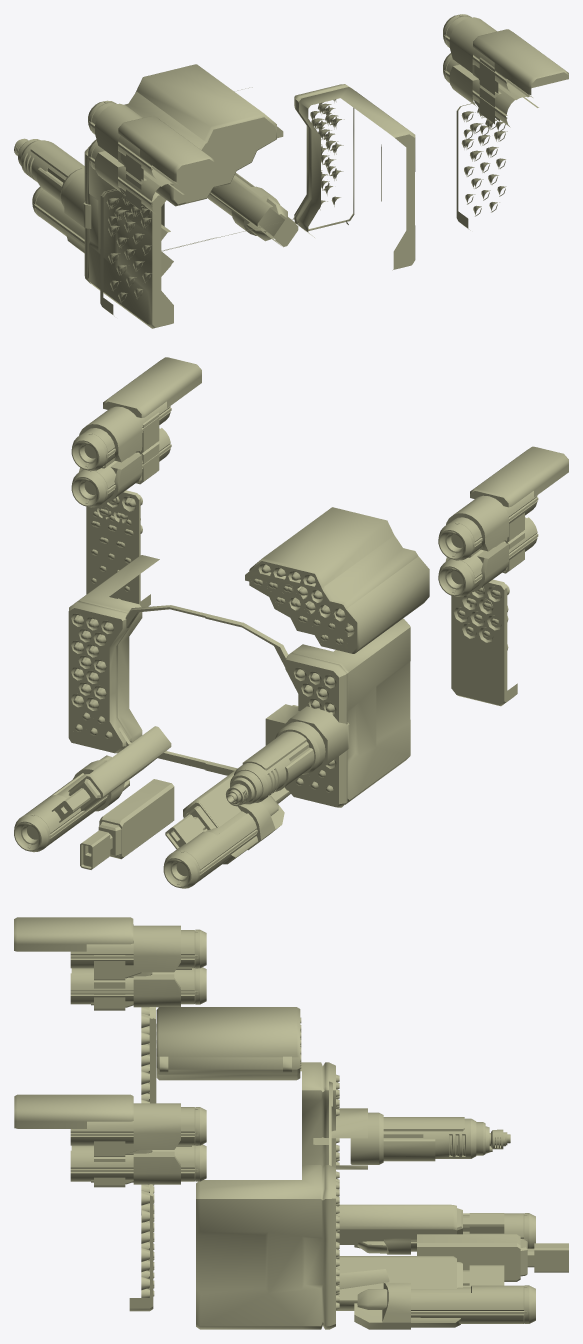
The model's file is StalkerWeapons.glb.
3 views of the same model, one above another, from view 1: azimuth 30°, elevation 25°; view 2: azimuth 150°, elevation 25°; view 3: azimuth 270°, elevation 25° (orthographic). The views are drawn at different scales.
Parts seen in each view (by area): view 1: Torso_Left_MH2_Missile20, Torso_Left_MH1_Missile15, Forearm_Left_EH1_PPC, Forearm_Right_EH1_PPC, Torso_Right_MH1_Missile20, Torso_Right_MH1_Missile15, Torso_Left_BH1_AC20, Forearm_Left_EH2_PPC, Forearm_Right_EH2_PPC, Torso_Left_MH2_Missile10, Torso_Right_EH1_PPC, Torso_Left_EH1_PPC (+13 smaller); view 2: Torso_Left_MH1_Missile15, Torso_Left_MH2_Missile20, Torso_Right_MH1_Missile20, Forearm_Left_EH1_PPC, Forearm_Right_EH1_PPC, Forearm_Left_MH1_Missile10, Torso_Left_MH2_Missile10, Torso_Left_EH1_PPC, Torso_Left_BH1_AC20, Torso_Left_MH1_Missile20, Torso_Center_EH1_Flamer, Torso_Right_EH1_PPC (+16 smaller); view 3: Torso_Right_MH1_Missile15, Forearm_Right_EH1_PPC, Forearm_Left_EH1_PPC, Torso_Right_EH1_PPC, Torso_Left_MH2_Missile20, Torso_Left_BH1_AC20, Torso_Left_EH1_Flamer, Torso_Right_EH1_Flamer, Forearm_Right_EH2_PPC, Forearm_Left_EH2_PPC, Torso_Left_MH1_Missile15, Torso_Center_EH1_Laser (+14 smaller).
Boxes of the visible parts, <box> form: Torso_Left_MH2_Missile20: <box>125,64,283,206</box>; Torso_Left_MH1_Missile15: <box>84,145,217,328</box>; Forearm_Left_EH1_PPC: <box>88,100,214,181</box>; Forearm_Right_EH1_PPC: <box>443,14,568,94</box>; Torso_Right_MH1_Missile20: <box>294,84,414,270</box>; Torso_Right_MH1_Missile15: <box>298,84,415,268</box>; Torso_Left_BH1_AC20: <box>18,139,91,228</box>; Forearm_Left_EH2_PPC: <box>88,139,184,213</box>; Forearm_Right_EH2_PPC: <box>443,53,538,127</box>; Torso_Left_MH2_Missile10: <box>124,91,276,203</box>; Torso_Right_EH1_PPC: <box>207,173,296,241</box>; Torso_Left_EH1_PPC: <box>32,186,173,264</box>; Torso_Left_MH1_Missile15: <box>207,614,410,807</box>; Torso_Left_MH2_Missile20: <box>245,507,429,653</box>; Torso_Right_MH1_Missile20: <box>68,555,159,753</box>; Forearm_Left_EH1_PPC: <box>438,446,568,560</box>; Forearm_Right_EH1_PPC: <box>71,357,201,470</box>; Forearm_Left_MH1_Missile10: <box>451,580,516,706</box>; Torso_Left_MH2_Missile10: <box>245,535,418,647</box>; Torso_Left_EH1_PPC: <box>163,795,284,888</box>; Torso_Left_BH1_AC20: <box>230,718,327,804</box>; Torso_Left_MH1_Missile20: <box>214,618,410,807</box>; Torso_Center_EH1_Flamer: <box>80,787,174,869</box>; Torso_Right_EH1_PPC: <box>14,755,129,852</box>; Torso_Right_MH1_Missile15: <box>196,1165,339,1329</box>; Forearm_Right_EH1_PPC: <box>14,1094,206,1149</box>; Forearm_Left_EH1_PPC: <box>14,917,206,972</box>; Torso_Right_EH1_PPC: <box>337,1269,535,1329</box>; Torso_Left_MH2_Missile20: <box>156,1007,301,1080</box>; Torso_Left_BH1_AC20: <box>351,1112,485,1164</box>; Torso_Left_EH1_Flamer: <box>336,1205,504,1244</box>; Torso_Right_EH1_Flamer: <box>336,1256,504,1310</box>; Forearm_Right_EH2_PPC: <box>70,1144,206,1184</box>; Forearm_Left_EH2_PPC: <box>70,967,206,1007</box>; Torso_Left_MH1_Missile15: <box>300,1062,339,1168</box>; Torso_Center_EH1_Laser: <box>417,1234,520,1281</box>.
Bounding box in the file's own units: 1.26 × 0.7992 × 1.45.
